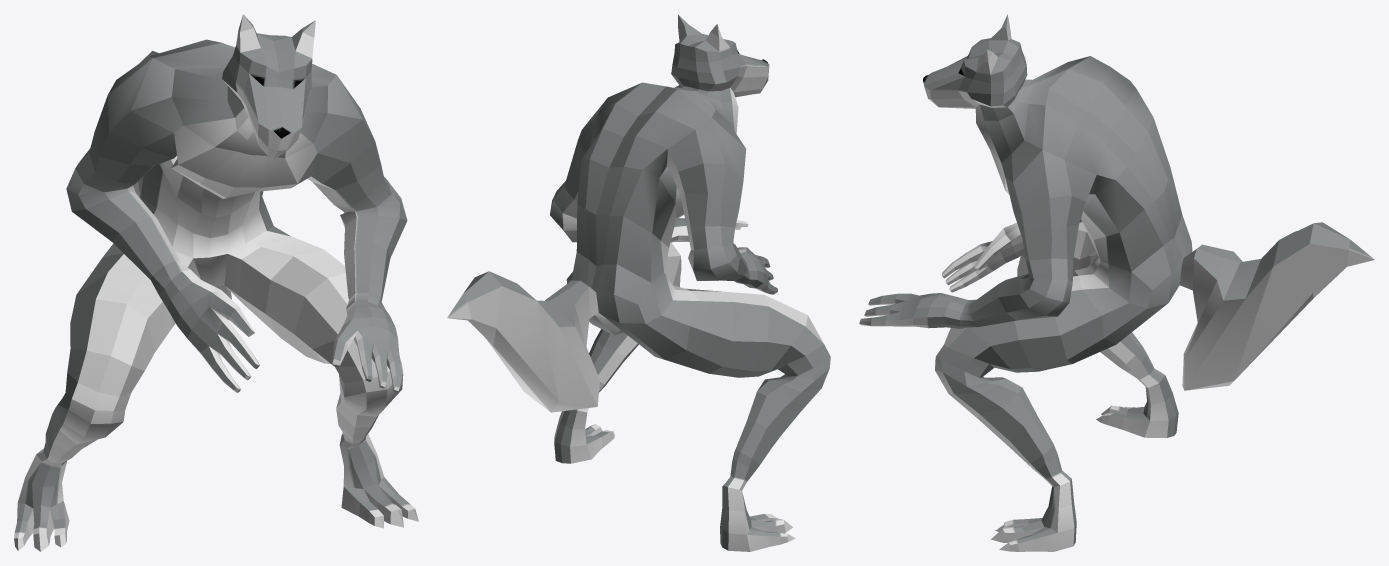
File: WolfAttack(106).obj
3 views of the same model, side by side, from view 1: azimuth 30°, elevation 25°; view 2: azimuth 150°, elevation 25°; view 3: azimuth 270°, elevation 25° (orthographic). The views are drawn at different scales.
Parts seen in each view (by area): view 1: Box001; view 2: Box001; view 3: Box001.
Boxes of the visible parts, x1=… form: Box001: x1=14, y1=14, x2=418, y2=551; Box001: x1=447, y1=14, x2=830, y2=551; Box001: x1=859, y1=14, x2=1374, y2=551.
Bounding box in the file's own units: 77.57 × 119 × 119.
